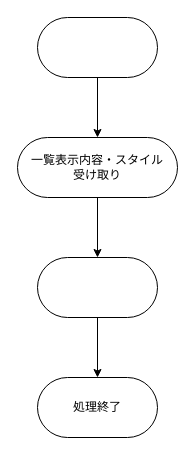
This 195x455 diagram has some shape labels left out. The shapes that lost their labels are listed below. From the top down, each one's centre as x and y in pixels, then its label:
the point at 97,47: 呼び出し
the point at 97,287: 一覧表示生成
